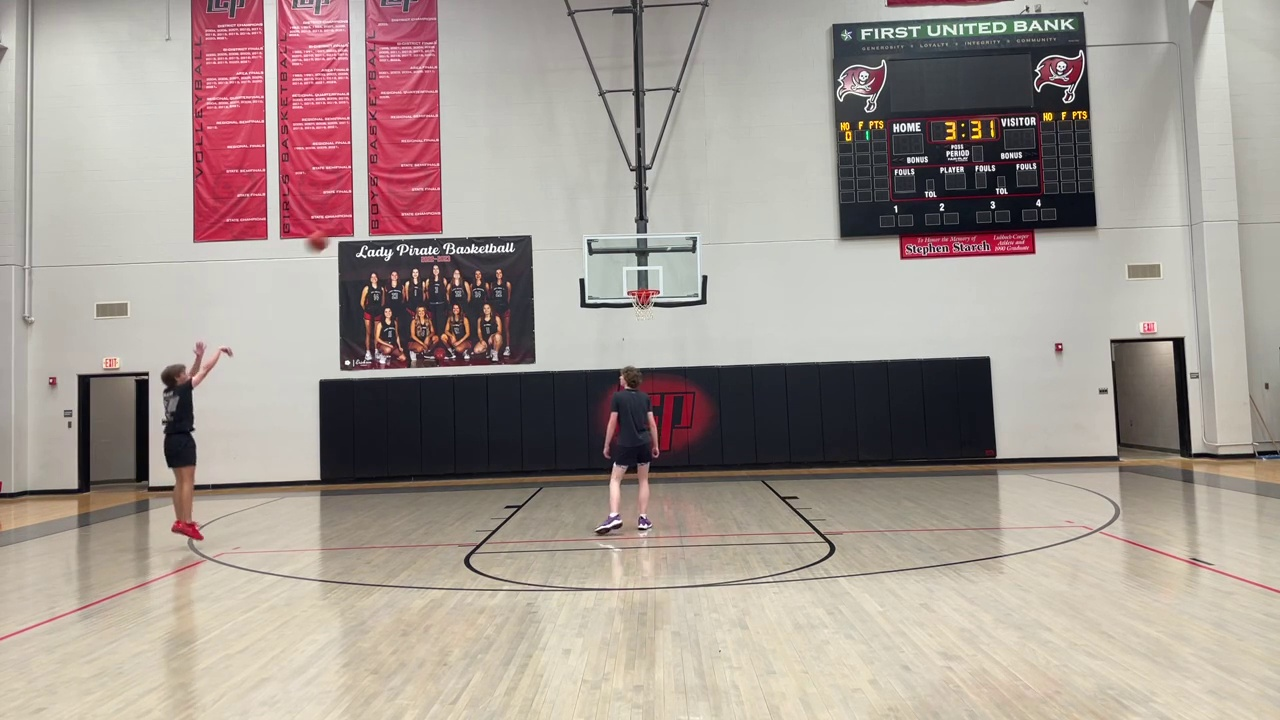shooting player: (158, 340, 233, 544)
